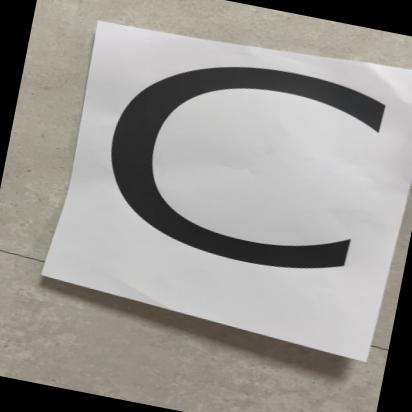seat: (48, 20, 412, 364)
